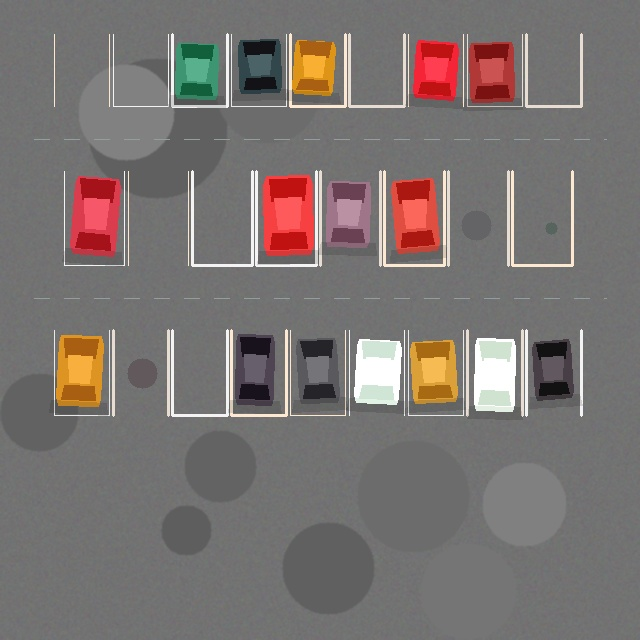space-empty: (128, 171, 188, 265), (192, 171, 252, 265), (448, 171, 508, 265), (512, 171, 572, 265), (113, 330, 168, 415), (172, 330, 227, 415), (54, 34, 109, 106), (113, 34, 168, 106), (349, 34, 404, 106), (526, 34, 581, 106)
space-occupied: (64, 171, 124, 265), (256, 171, 316, 265), (320, 171, 380, 265), (384, 171, 444, 265), (54, 330, 109, 415), (231, 330, 286, 415), (290, 330, 345, 415), (349, 330, 404, 415), (408, 330, 463, 415), (467, 330, 522, 415), (526, 330, 581, 415), (172, 34, 227, 106), (231, 34, 286, 106), (290, 34, 345, 106), (408, 34, 463, 106), (467, 34, 522, 106)
